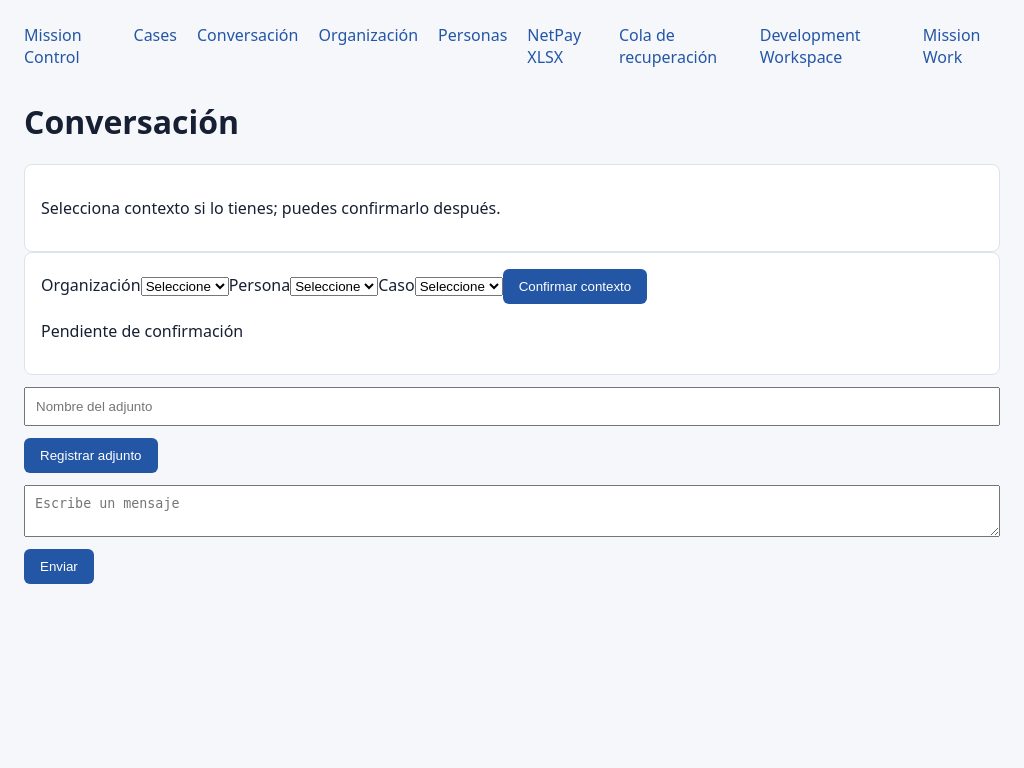
Scenario: Yarvis web app › allows sending a message and confirming context
Type "Hola" into the text box with placeholder "Escribe un mensaje".
click(512, 511); type("Hola")  # box [24,485,1000,537]
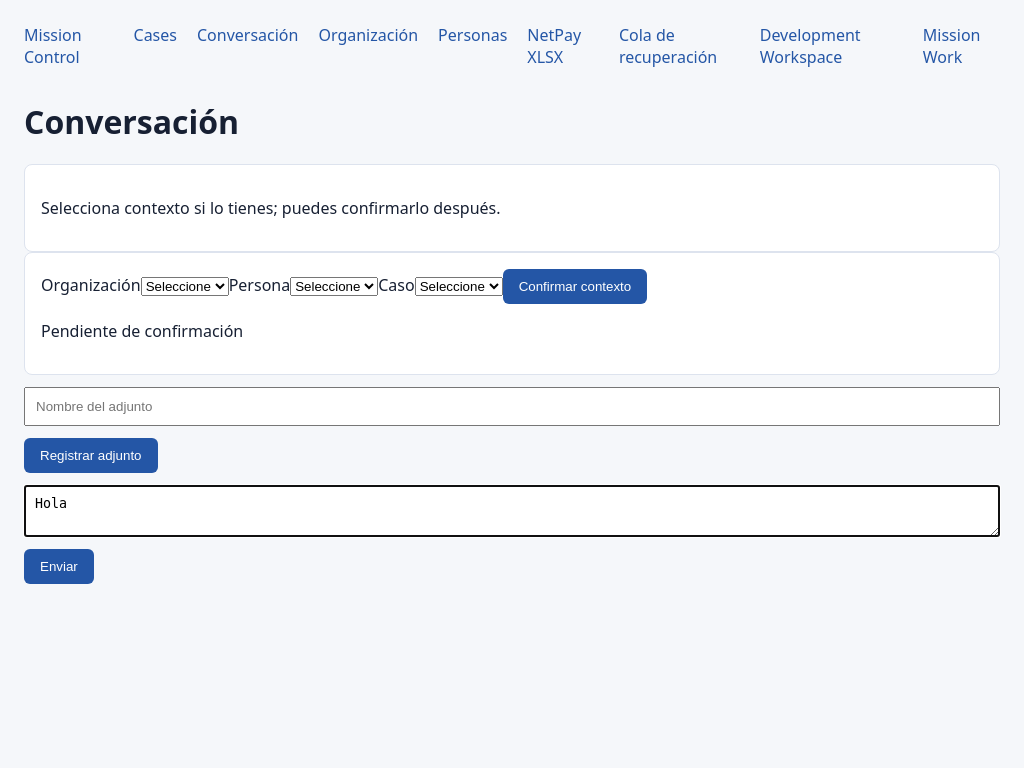
Click the button "Enviar".
click(59, 567)  # box [24,549,94,584]
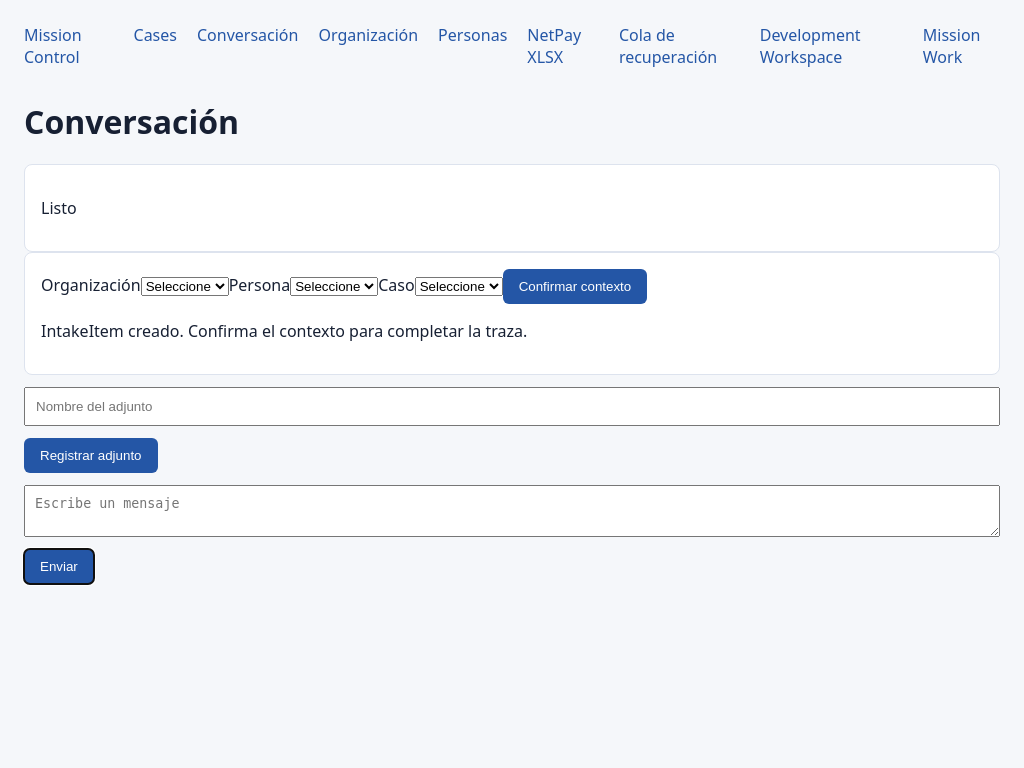
expect the text "Listo" is shown: met, box [41,197,77,219]
